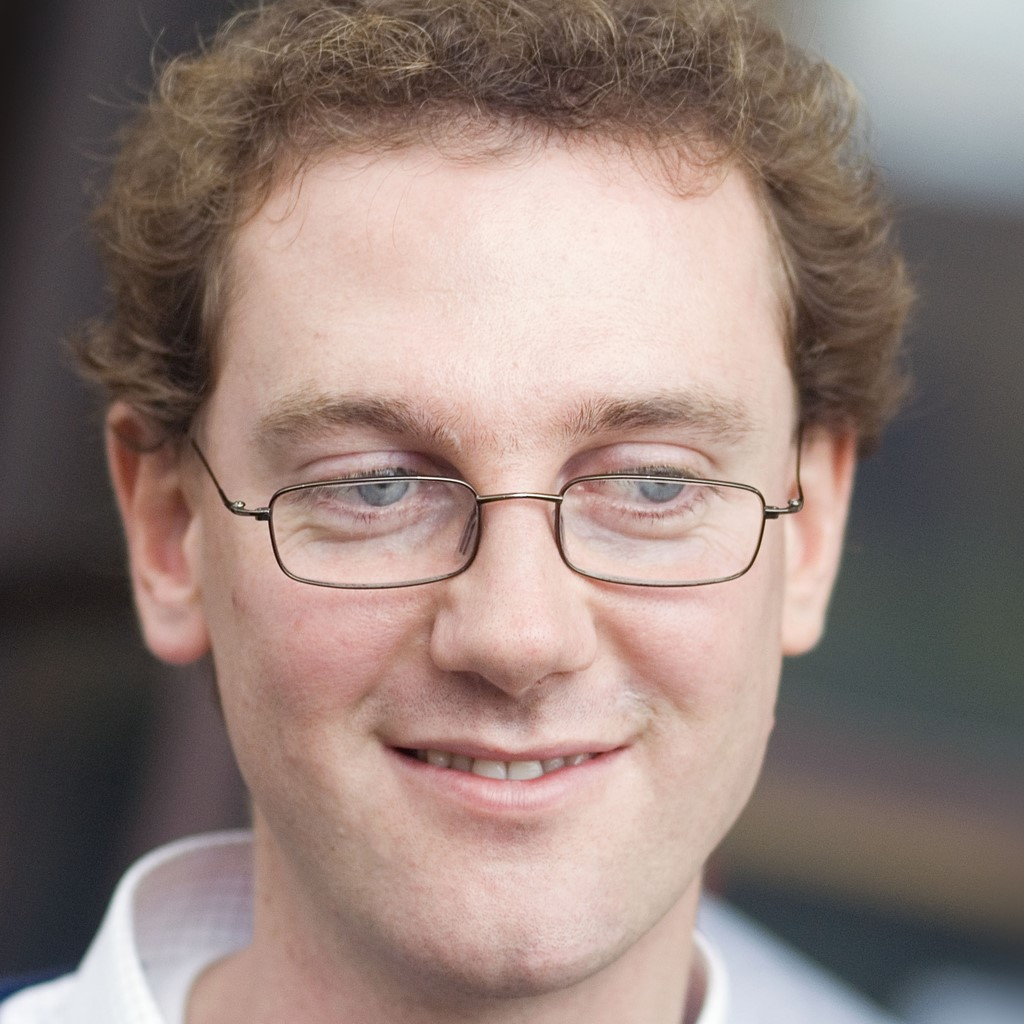sin_mascara: (146, 48, 830, 982)
